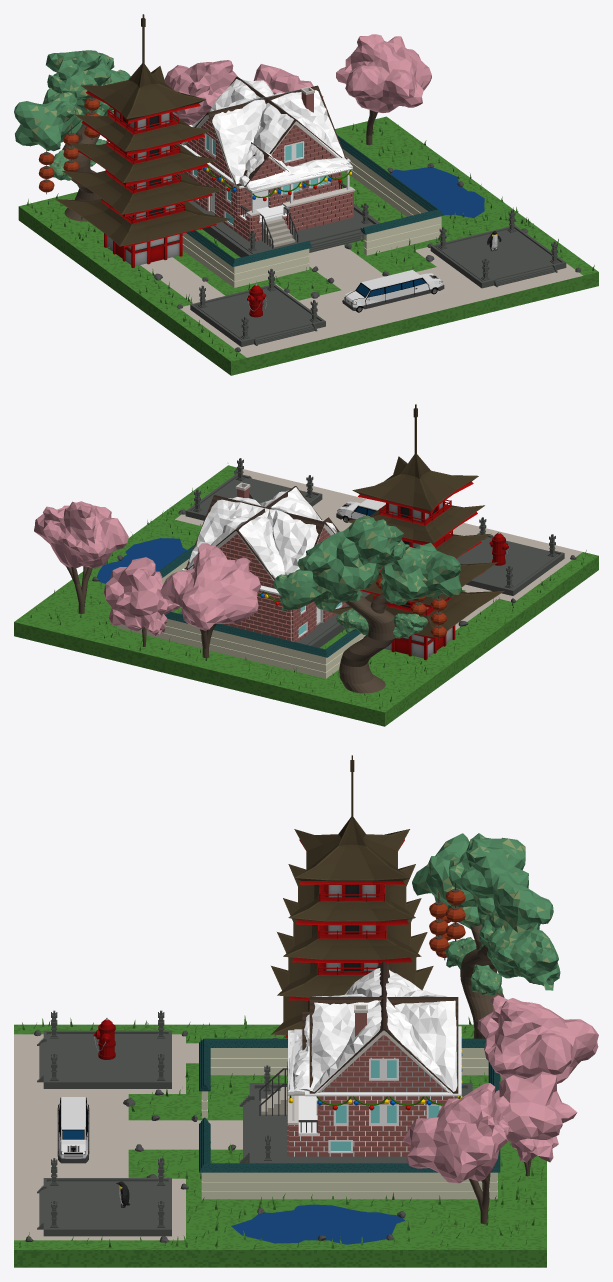
3 views of the same model, one above another, from view 1: azimuth 30°, elevation 25°; view 2: azimuth 150°, elevation 25°; view 3: azimuth 270°, elevation 25° (orthographic). The views are drawn at different scales.
Visible parts, largest first — view 1: Cube.005, Cube.1419, VEHICLES_LIMOUSINE; view 2: Cube.005, Cube.1419, VEHICLES_LIMOUSINE, OBJRANDOM_FIRE_HYDRANT; view 3: Cube.005, Cube.1419, VEHICLES_LIMOUSINE, OBJRANDOM_FIRE_HYDRANT.
Boxes of the visible parts, left/top/right/bottom form: Cube.005: left=14, top=14, right=598, bottom=375; Cube.1419: left=179, top=76, right=355, bottom=248; VEHICLES_LIMOUSINE: left=342, top=270, right=444, bottom=312; Cube.005: left=14, top=404, right=598, bottom=726; Cube.1419: left=181, top=482, right=347, bottom=642; VEHICLES_LIMOUSINE: left=336, top=499, right=385, bottom=522; OBJRANDOM_FIRE_HYDRANT: left=489, top=532, right=509, bottom=565; Cube.005: left=14, top=755, right=598, bottom=1267; Cube.1419: left=259, top=961, right=462, bottom=1156; VEHICLES_LIMOUSINE: left=57, top=1097, right=89, bottom=1163; OBJRANDOM_FIRE_HYDRANT: left=93, top=1018, right=115, bottom=1059.
Size of the model in its own units: 4528 by 2791 by 4389.
Materials: 45 (5 with a texture image).
